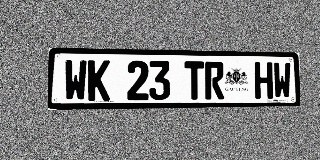2: (127, 60, 148, 100)
3: (149, 61, 170, 100)
H: (254, 62, 273, 99)
K: (88, 60, 110, 101)
R: (205, 61, 224, 99)
T: (184, 61, 204, 100)
W: (64, 60, 87, 101), (273, 62, 291, 99)
